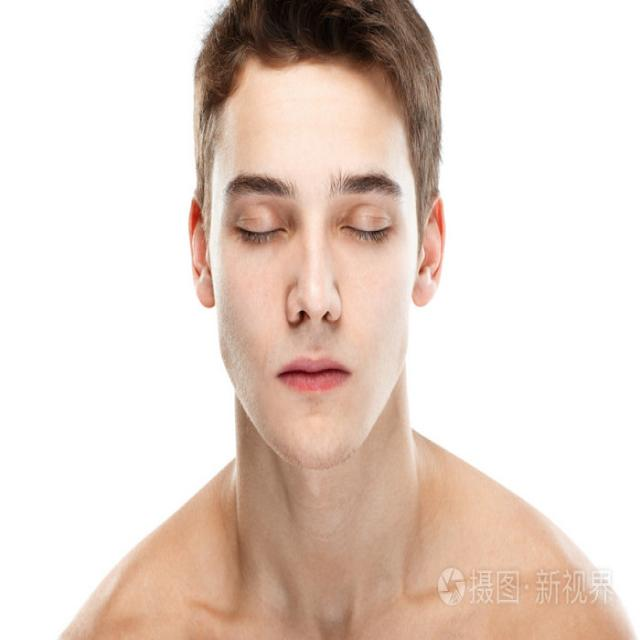Closed: (337, 201, 394, 245), (232, 205, 289, 247)
